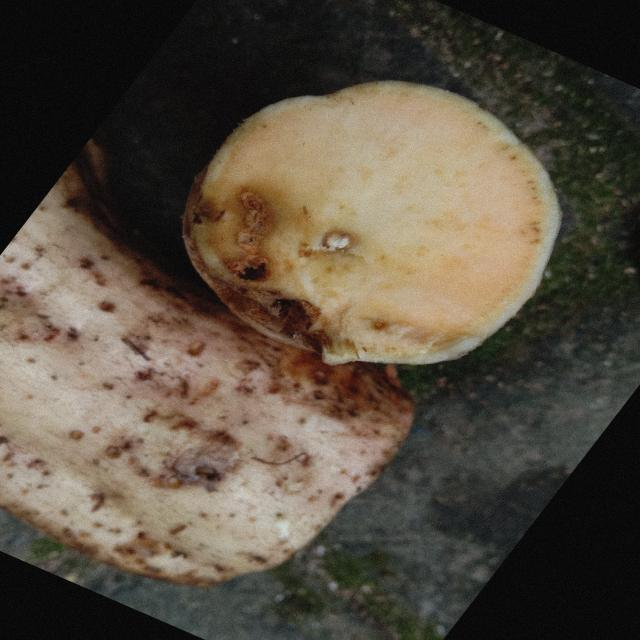Sick Sweet Potato_Tuber Rot: (183, 81, 560, 364)
